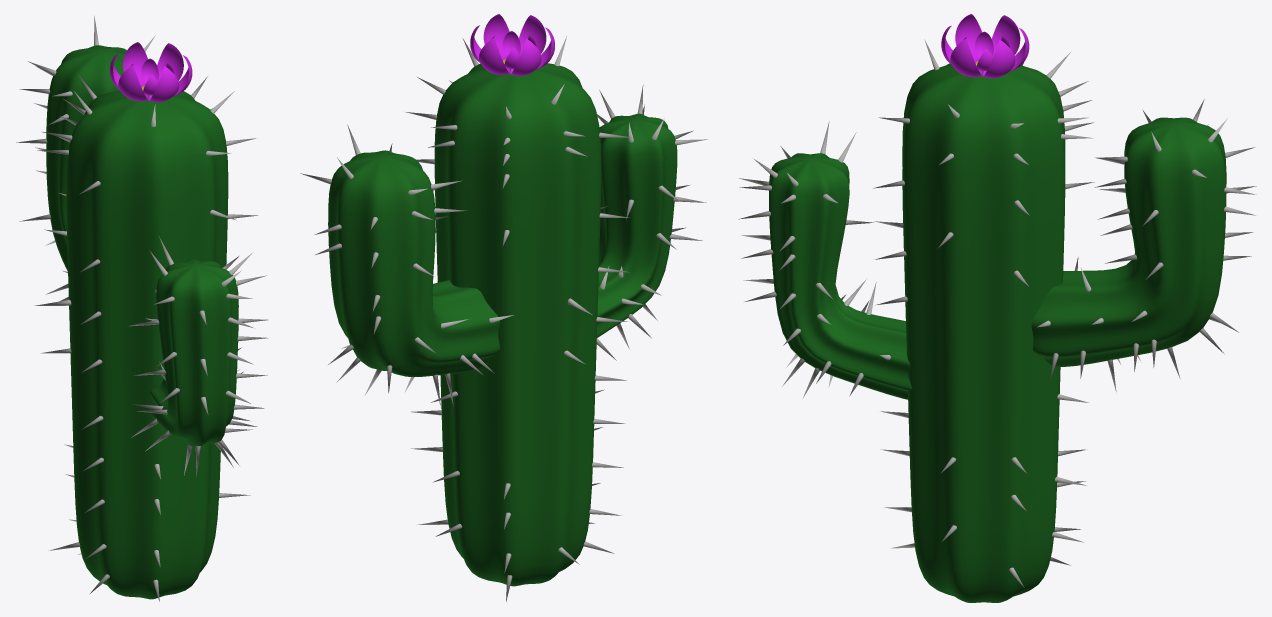
Rendered from Cactus_Medium_01.fbx.
3 renders of one model, left to right at view 1: azimuth 30°, elevation 25°; view 2: azimuth 150°, elevation 25°; view 3: azimuth 270°, elevation 25°, orthographic. The views are drawn at different scales.
Parts seen in each view (by area): view 1: cactus_medium_1; view 2: cactus_medium_1; view 3: cactus_medium_1.
Boxes of the visible parts, left/top/right/bottom form: cactus_medium_1: left=16, top=16, right=268, bottom=601; cactus_medium_1: left=300, top=14, right=707, bottom=601; cactus_medium_1: left=738, top=14, right=1256, bottom=602.
Size of the model in its own units: 80.04 by 200 by 165.
